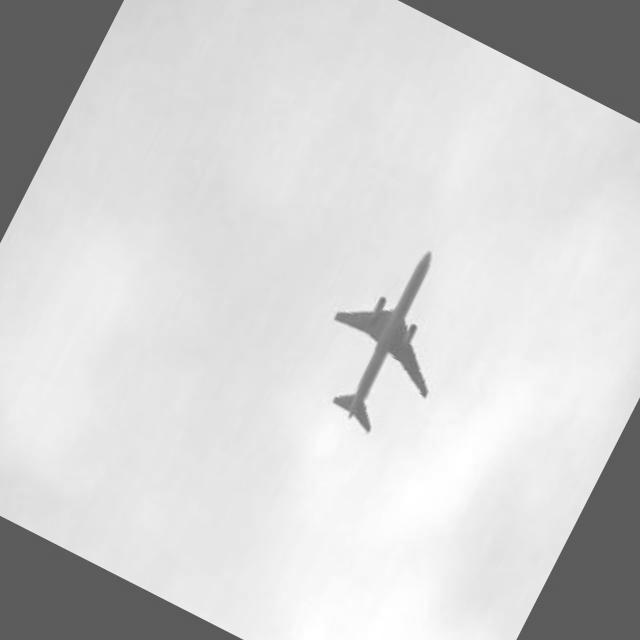aeroplane: (295, 225, 488, 447)
